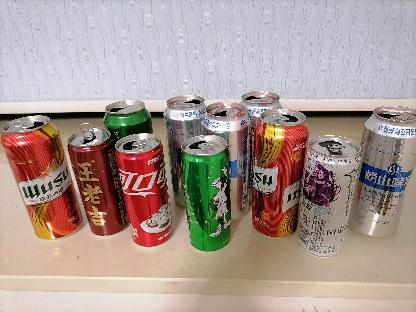Can: (1, 115, 83, 240), (349, 106, 416, 238), (298, 135, 361, 257), (252, 110, 309, 237), (67, 124, 128, 236), (115, 133, 172, 247), (181, 135, 232, 251), (202, 102, 250, 220), (163, 95, 206, 206), (240, 91, 283, 200), (103, 100, 153, 143), (383, 158, 384, 160), (376, 248, 376, 250)
